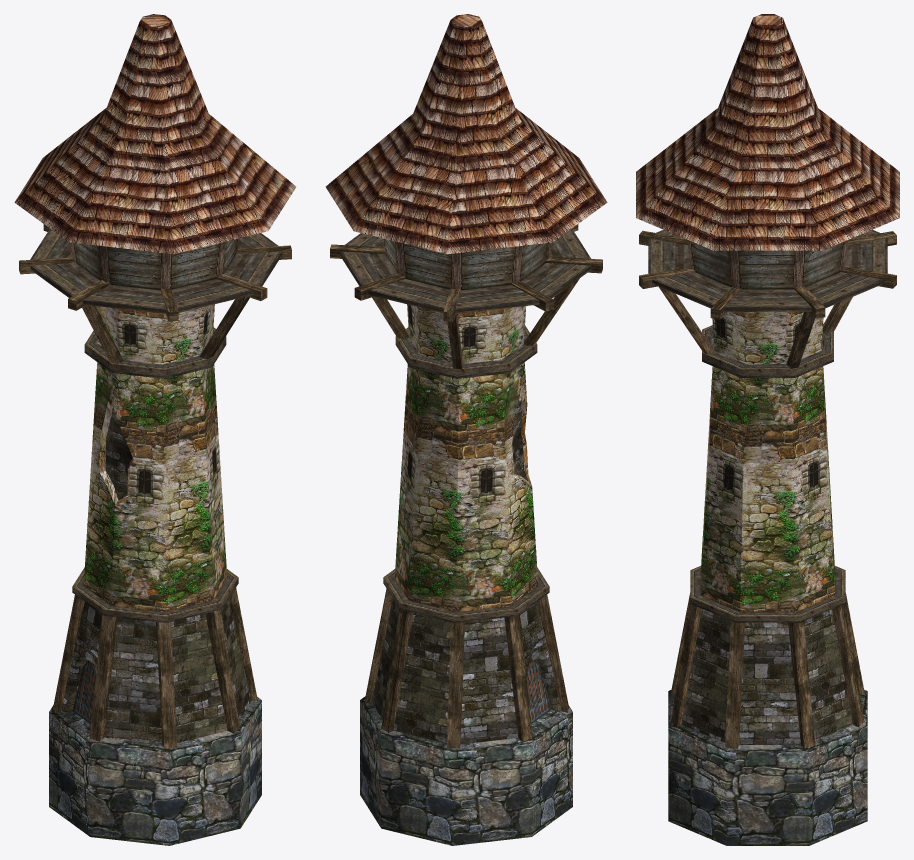
The model's file is loc2_04.glb.
3 renders of one model, left to right at view 1: azimuth 30°, elevation 25°; view 2: azimuth 150°, elevation 25°; view 3: azimuth 270°, elevation 25°, orthographic.
Visible parts, largest first — view 1: loc2_04-col; view 2: loc2_04-col; view 3: loc2_04-col.
Part boxes in pixels (x1,y1,x2,y2): loc2_04-col: (14,14,296,845); loc2_04-col: (325,14,607,845); loc2_04-col: (636,14,899,845).
Size of the model in its own units: 15.44 by 50.56 by 15.44.
Materials: 10 (10 with a texture image).
